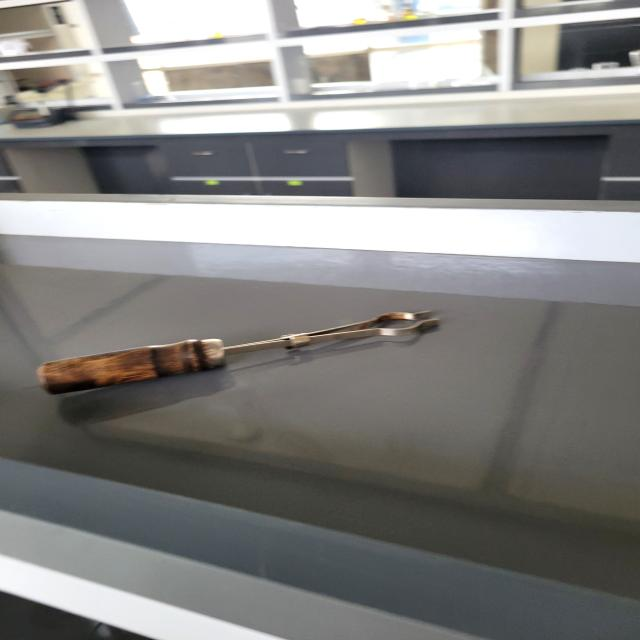TestTube_Holder: (14, 304, 451, 398)
